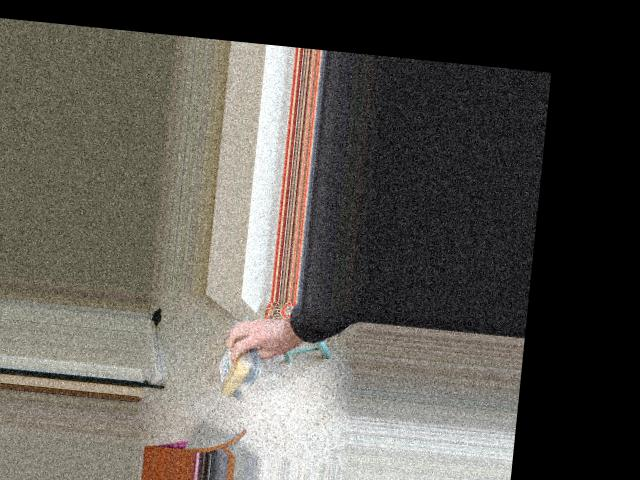cheese: (211, 324, 265, 403)
